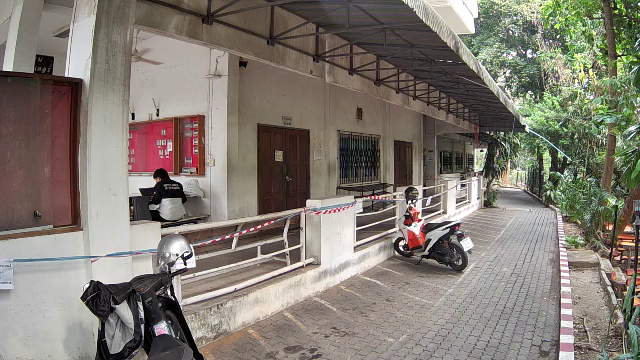id1: (1, 154, 77, 360)
id2: (80, 156, 168, 360)
id3: (172, 149, 269, 360)
id4: (274, 151, 365, 360)
id5: (369, 150, 457, 359)
id6: (461, 150, 540, 360)
id7: (544, 147, 610, 360)
